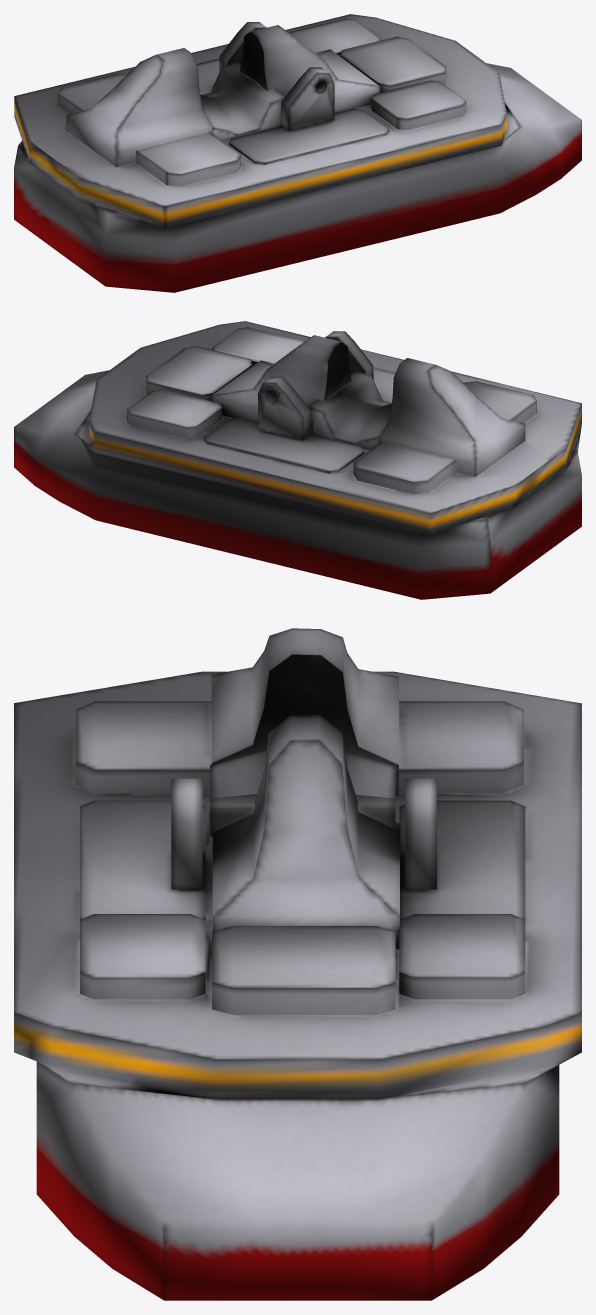
Rendered from r_foot.dae.
3 renders of one model, top to bottom at view 1: azimuth 30°, elevation 25°; view 2: azimuth 150°, elevation 25°; view 3: azimuth 270°, elevation 25°, orthographic. The views are drawn at different scales.
Visible parts, largest first — view 1: r_foot; view 2: r_foot; view 3: r_foot.
Boxes of the visible parts, x1,y1,x2,y2 form: r_foot: [14, 14, 581, 292]; r_foot: [14, 321, 581, 599]; r_foot: [14, 628, 581, 1300].
Bounding box in the file's own units: 0.2629 × 0.1398 × 0.0866.
Materials: 1 (1 with a texture image).
